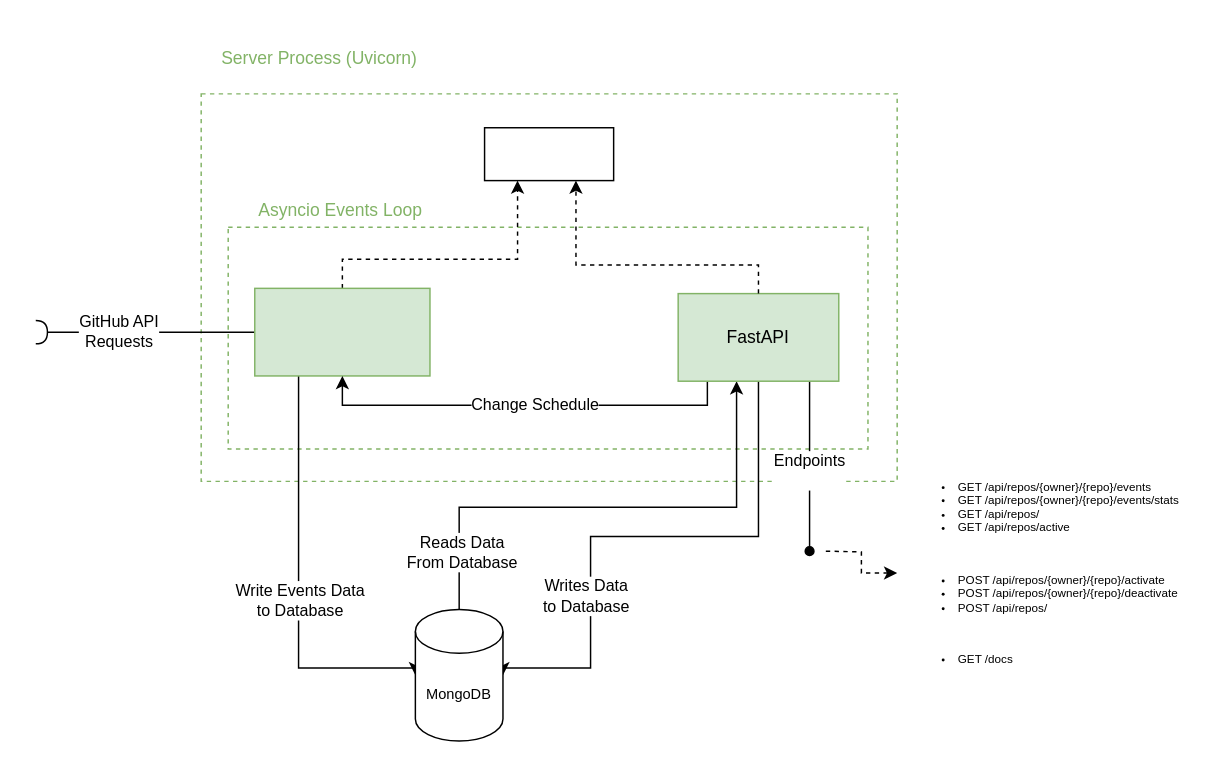
Image size: 1215x767. Some labels were removed from this diagram. Each missing label, with the centre of its shape:
"APScheduler" belongs at (x=341, y=331).
"Common Resources: - DB connection - configs" belongs at (x=548, y=153).
